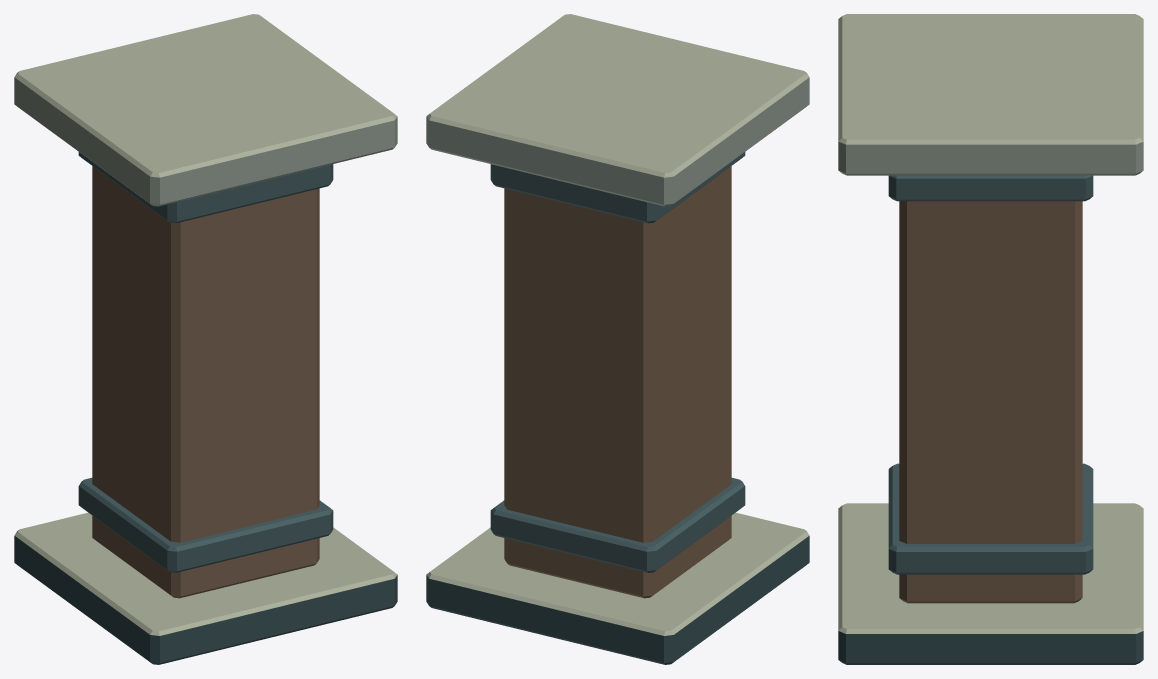
File: pillar-large.glb
The picture shows the model from 3 angles, left to right: view 1: azimuth 30°, elevation 25°; view 2: azimuth 150°, elevation 25°; view 3: azimuth 270°, elevation 25°; orthographic projection. The views are drawn at different scales.
Visible parts, largest first — view 1: pillar-large__body; view 2: pillar-large__body; view 3: pillar-large__body.
Part boxes in pixels (box(x1,y1,x2,y2)): pillar-large__body: box(14, 14, 397, 664); pillar-large__body: box(426, 14, 809, 664); pillar-large__body: box(838, 14, 1143, 664).
Size of the model in its own units: 1 by 1.9 by 1.
